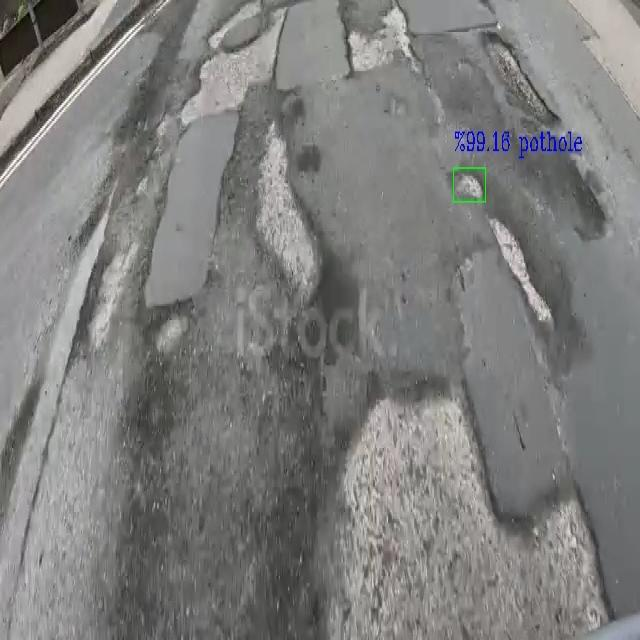pothole: (456, 170, 484, 200)
